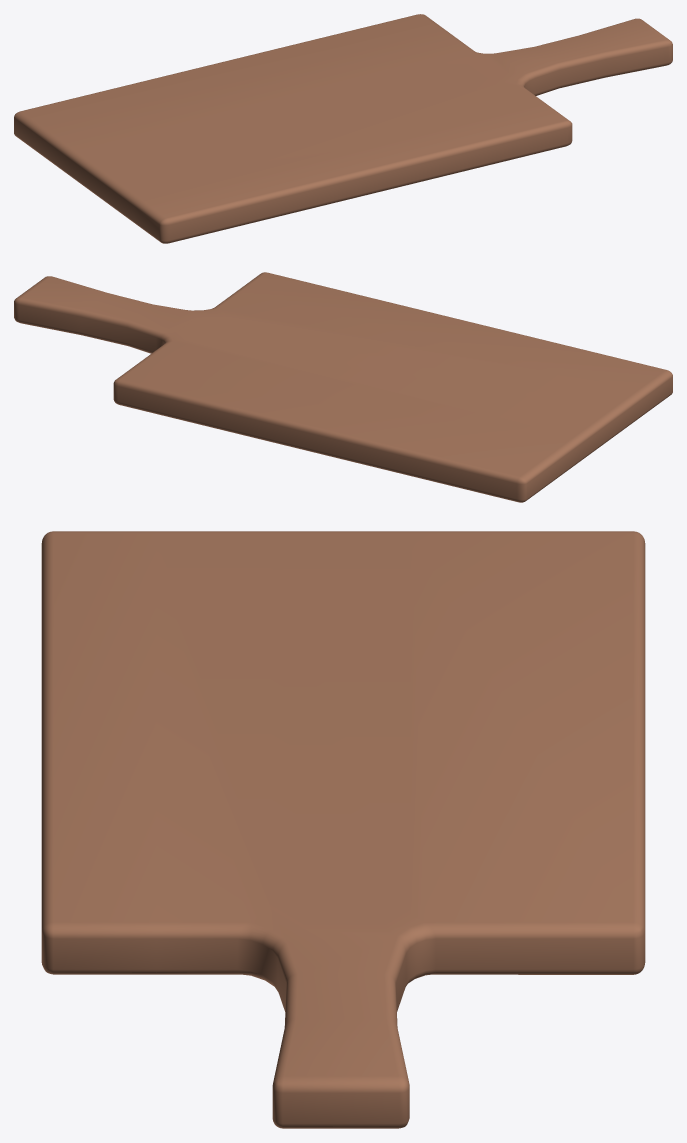
File: tabla2.fbx
The picture shows the model from 3 angles, top to bottom: view 1: azimuth 30°, elevation 25°; view 2: azimuth 150°, elevation 25°; view 3: azimuth 270°, elevation 25°; orthographic projection. The views are drawn at different scales.
Parts seen in each view (by area): view 1: tabla2; view 2: tabla2; view 3: tabla2.
Boxes of the visible parts, box(x1,y1,x2,y2) form: tabla2: box(14, 14, 672, 243); tabla2: box(14, 272, 672, 502); tabla2: box(41, 531, 645, 1128).
Bounding box in the file's own units: 106 × 4.47 × 48.5.
